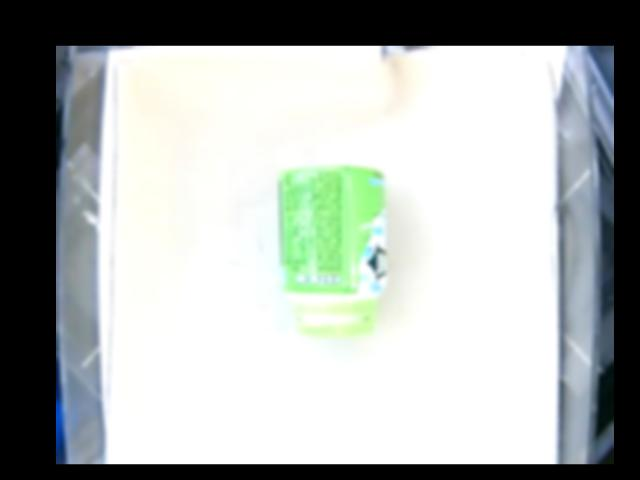Bottle: (279, 163, 387, 340)
